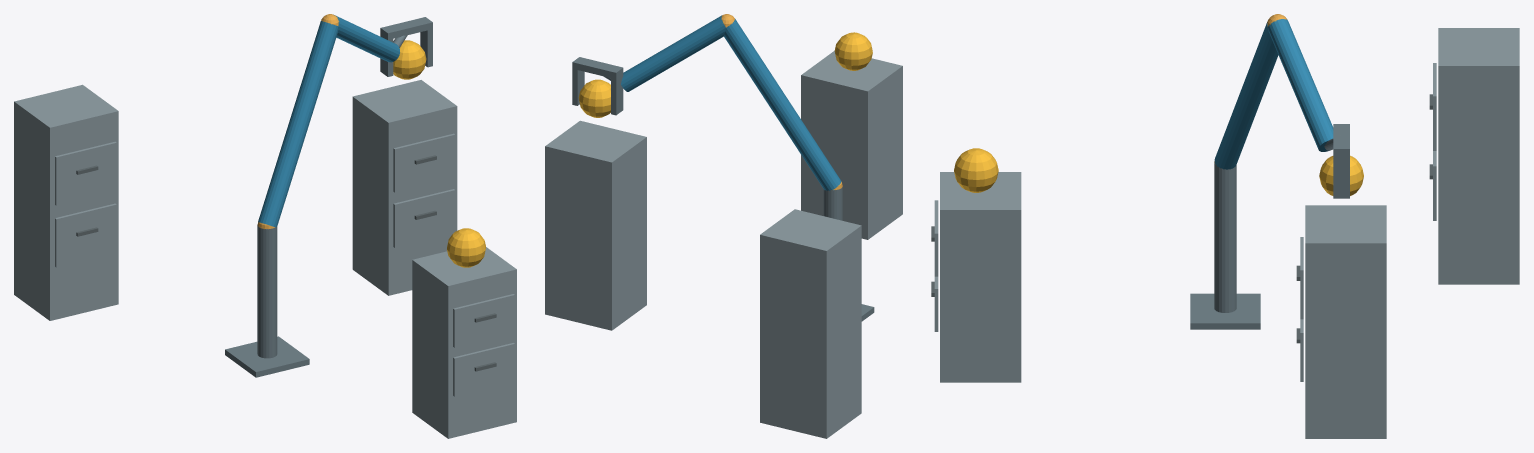
The picture shows the model from 3 angles, left to right: view 1: azimuth 30°, elevation 25°; view 2: azimuth 150°, elevation 25°; view 3: azimuth 270°, elevation 25°; orthographic projection. The views are drawn at different scales.
Parts seen in each view (by area): view 1: cabinet_3 body, cabinet_2 body, cabinet_1 body, moving link 1, cabinet_3 drawer front.001, cabinet_3 drawer front, cabinet_2 drawer front, cabinet_2 drawer front.001, fixed post, cabinet_1 drawer front.001, cabinet_1 drawer front, pedestal (+4 smaller); view 2: cabinet_3 body, cabinet_2 body, cabinet_1 body, moving link 1, moving link 2, released ball_1, ball ball_2, gripper bridge, fixed post, gripper finger -1, gripper finger 1; view 3: cabinet_3 body, cabinet_2 body, cabinet_1 body, fixed post, moving link 1, moving link 2, pedestal, released ball_1, ball ball_2, gripper finger 1, gripper bridge.
Part boxes in pixels (box(x1,y1,x2,y2)): cabinet_3 body: box(14, 84, 118, 320); cabinet_2 body: box(352, 80, 457, 295); cabinet_1 body: box(412, 247, 516, 438); moving link 1: box(258, 21, 338, 227); cabinet_3 drawer front.001: box(55, 141, 116, 205); cabinet_3 drawer front: box(55, 203, 116, 267); cabinet_2 drawer front: box(393, 189, 455, 247); cabinet_2 drawer front.001: box(393, 133, 455, 192); fixed post: box(257, 225, 277, 358); cabinet_1 drawer front.001: box(453, 294, 514, 347); cabinet_1 drawer front: box(453, 343, 514, 396); pedestal: box(225, 336, 309, 377); cabinet_3 body: box(760, 209, 861, 438); cabinet_2 body: box(545, 120, 646, 330); cabinet_1 body: box(801, 51, 902, 239); moving link 1: box(724, 19, 841, 190); moving link 2: box(621, 15, 725, 91); released ball_1: box(834, 32, 872, 70); ball ball_2: box(578, 79, 610, 117); gripper bridge: box(572, 57, 623, 79); fixed post: box(823, 187, 842, 220); gripper finger -1: box(611, 74, 623, 115); gripper finger 1: box(572, 69, 584, 105); cabinet_3 body: box(1438, 28, 1519, 284); cabinet_2 body: box(1305, 205, 1386, 438); cabinet_1 body: box(940, 172, 1021, 382); fixed post: box(1214, 163, 1236, 312); moving link 1: box(1214, 22, 1278, 169); moving link 2: box(1268, 19, 1333, 151); pedestal: box(1190, 293, 1260, 329); released ball_1: box(954, 148, 998, 192); ball ball_2: box(1319, 155, 1363, 195); gripper finger 1: box(1333, 156, 1349, 198); gripper bridge: box(1333, 124, 1349, 156).
Size of the model in its own units: 1.62 by 1.37 by 2.1.
